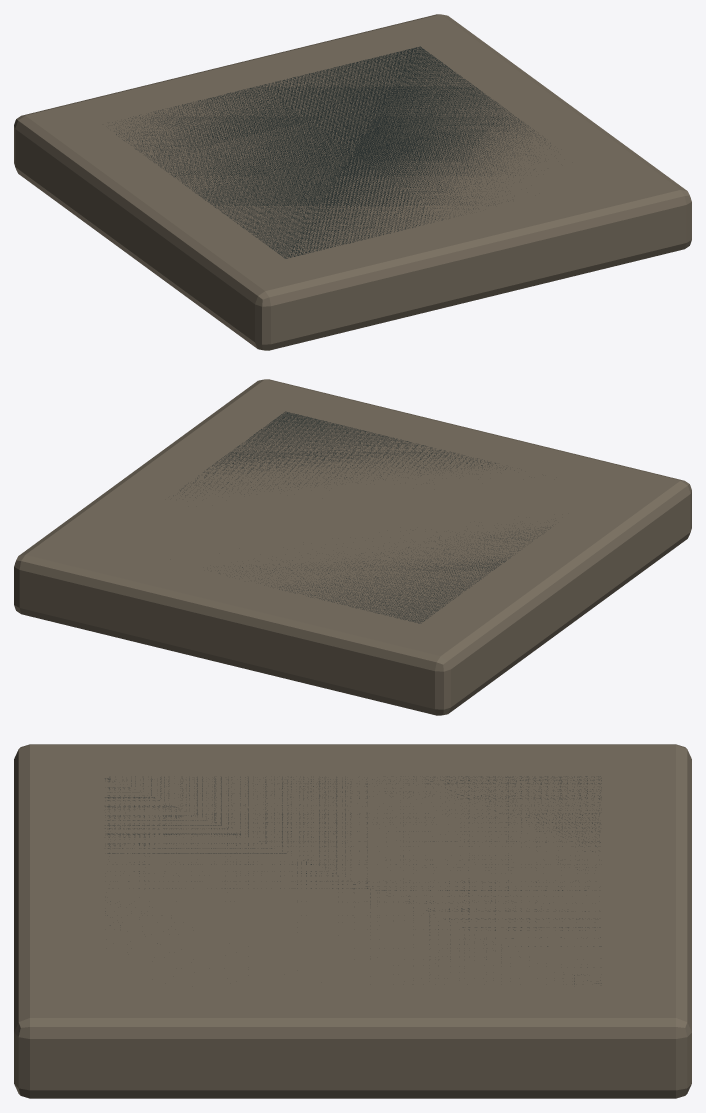
The model's file is fire_grate_floor_LOD1.glb.
The picture shows the model from 3 angles, top to bottom: view 1: azimuth 30°, elevation 25°; view 2: azimuth 150°, elevation 25°; view 3: azimuth 270°, elevation 25°; orthographic projection. The views are drawn at different scales.
Parts seen in each view (by area): view 1: LOD1_FireGrateFrame, LOD1_Grate; view 2: LOD1_FireGrateFrame, LOD1_Grate; view 3: LOD1_FireGrateFrame, LOD1_Grate.
Boxes of the visible parts, bbox=[...] form: LOD1_FireGrateFrame: bbox=[14, 14, 691, 350]; LOD1_Grate: bbox=[112, 46, 550, 258]; LOD1_FireGrateFrame: bbox=[14, 379, 691, 715]; LOD1_Grate: bbox=[173, 411, 552, 623]; LOD1_FireGrateFrame: bbox=[14, 744, 691, 1098]; LOD1_Grate: bbox=[105, 776, 601, 984].
Size of the model in its own units: 2.3 by 0.3 by 2.3.
